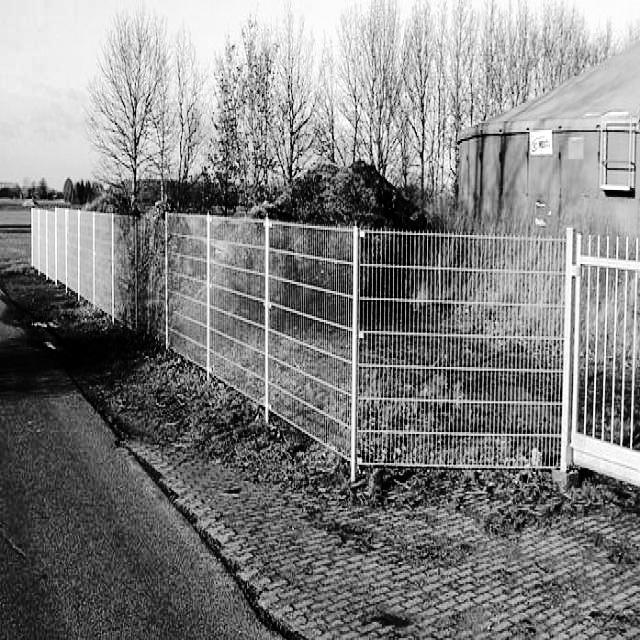fences: (363, 235, 640, 490), (205, 228, 355, 442), (101, 217, 188, 376), (32, 210, 88, 292)
